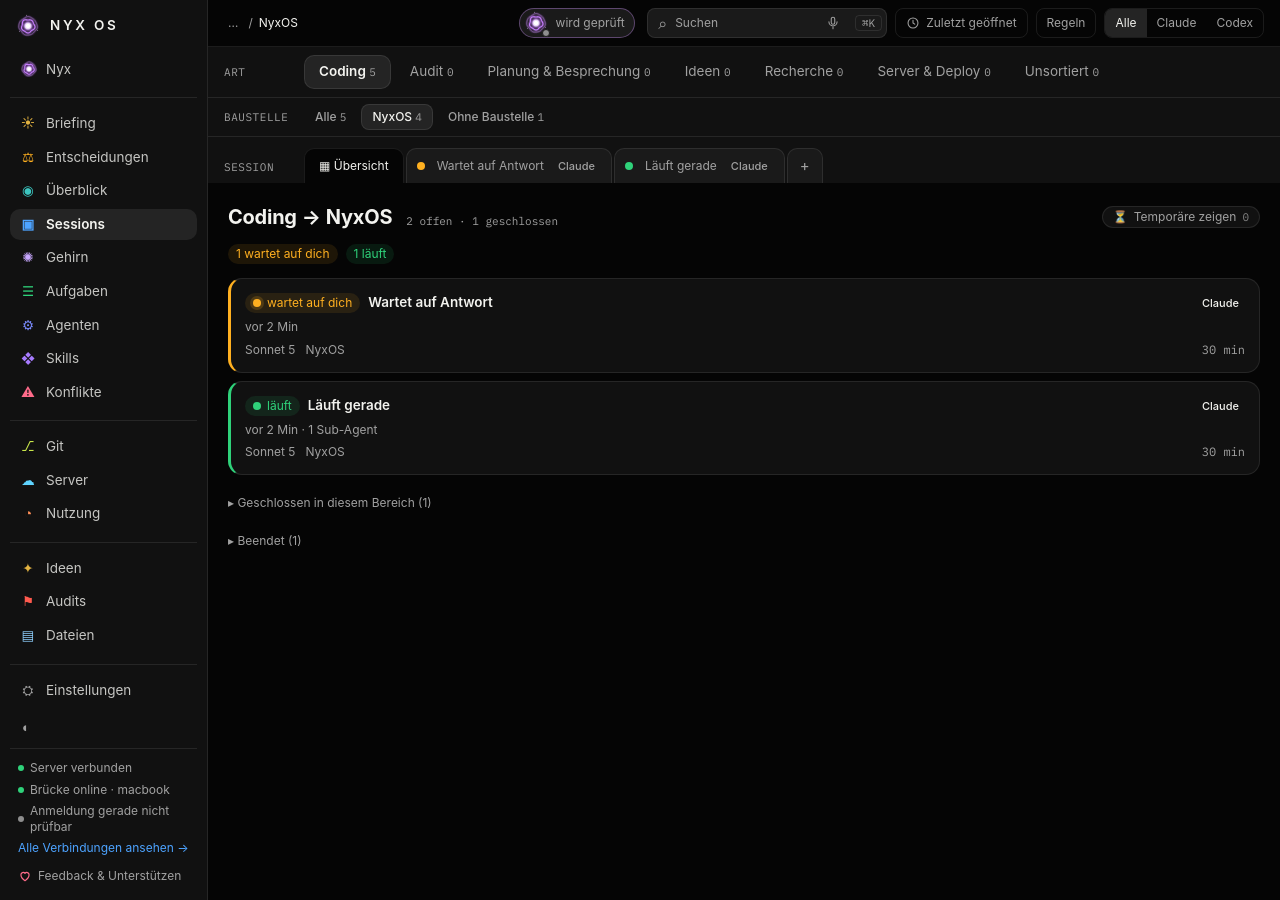
Test case: Sessions-Tab: Regeln-Bereich › listet Regeln und schaltet eine Regel ab
Expected: the list named "Sessions in" is shown, [228,278,1260,475]
What coordinates should you click on to do the following:
click the button "Regeln"
I would click on:
 (1066, 23)
Its box is [1036,8,1096,38].
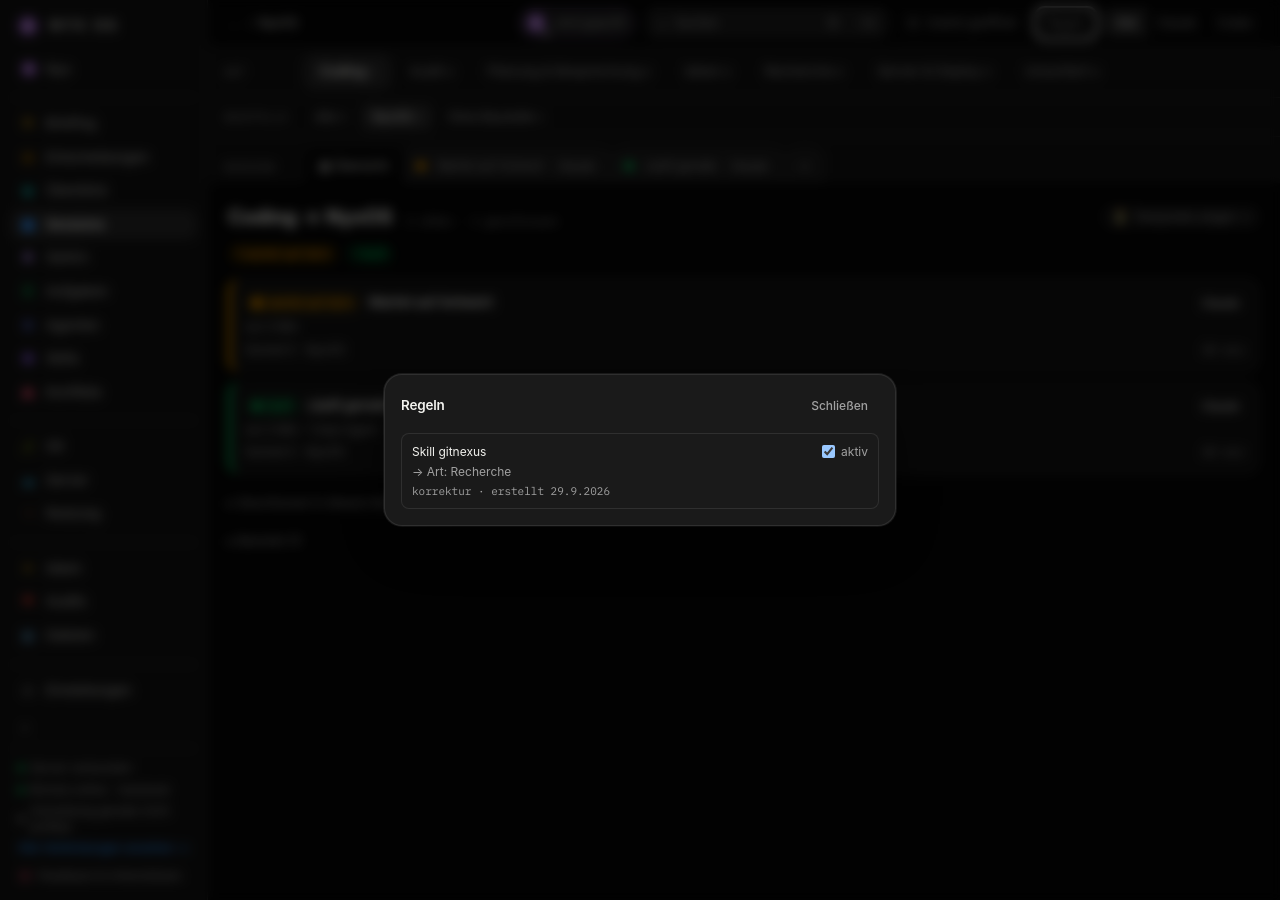
Now the text "Skill gitnexus" is shown, box [412,444,486,460]
Now the text "→ Art: Recherche" is shown, box [412,464,511,479]
What coordinates should you click on to do the following:
click the checkbox
I would click on:
 (829, 452)
Its box is [822,445,835,458].
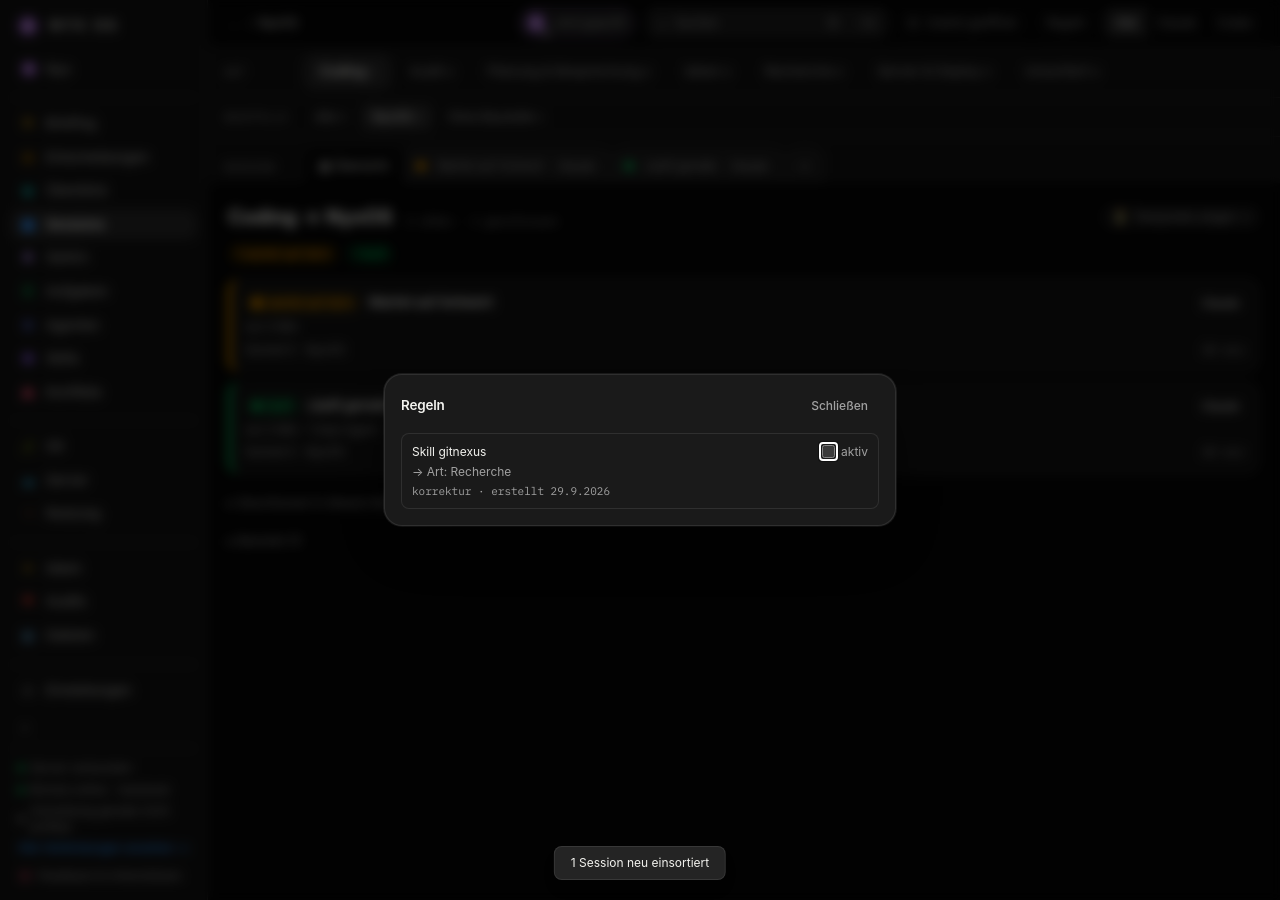
Now the text "1 Session neu einsortiert" is shown, box [571,855,709,871]
